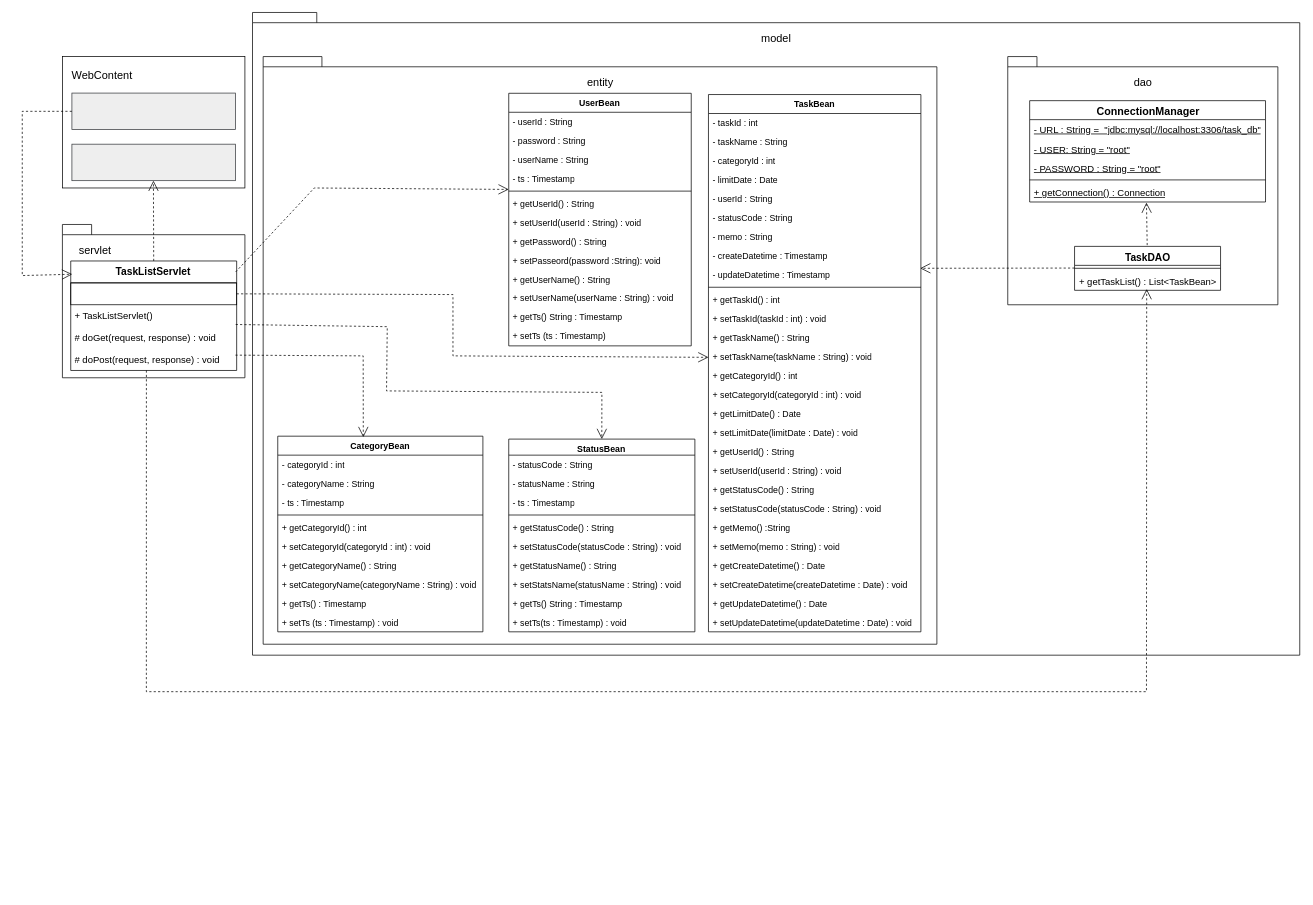
Image size: 1313x905. Some labels were removed from this diagram. Here are the shapes that lost their labels. From the top down, the centre of each, then its label:
(153,111): «JSP» menu.jsp
(153,162): «JSP» task-list.jsp
(153,293): - serialVersionUID : long = 1L
